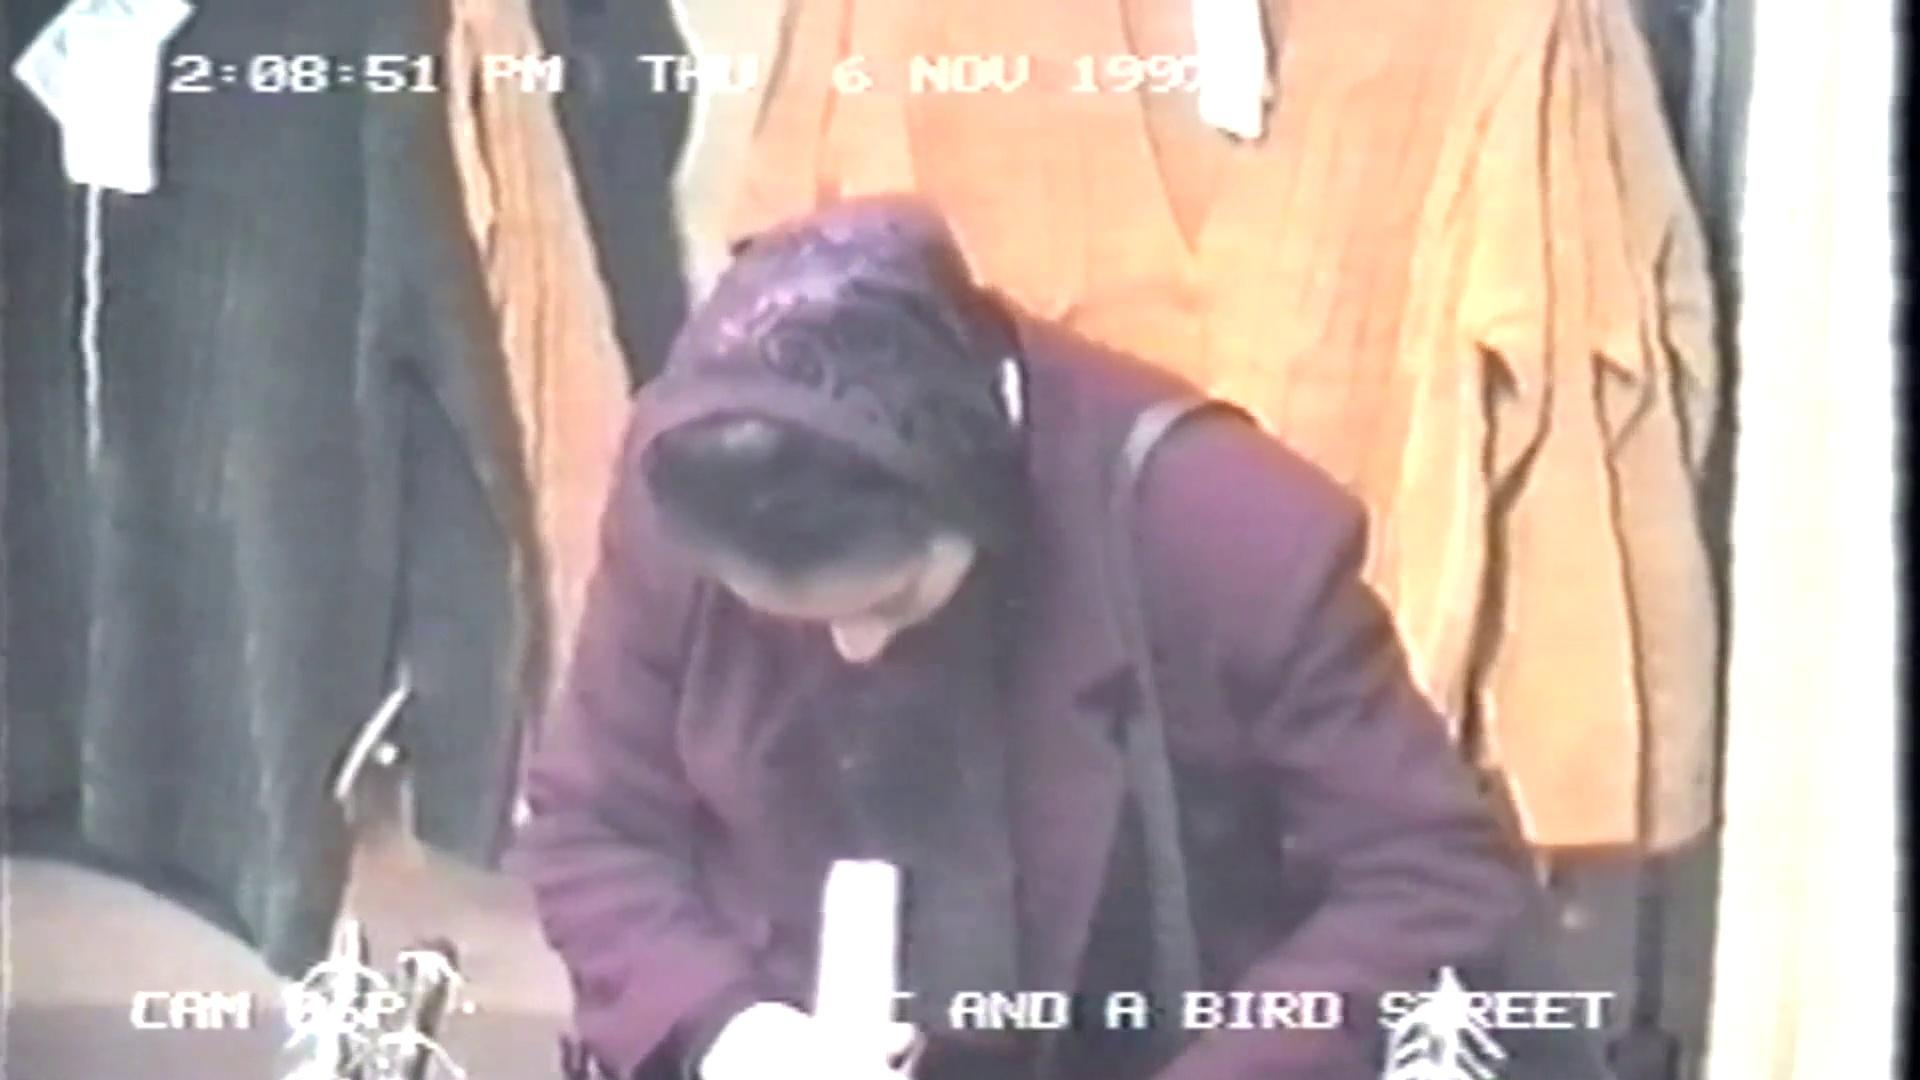1: (682, 961, 1212, 1080)
2: (460, 0, 1552, 1080)
persone: (1353, 837, 1613, 1080)
